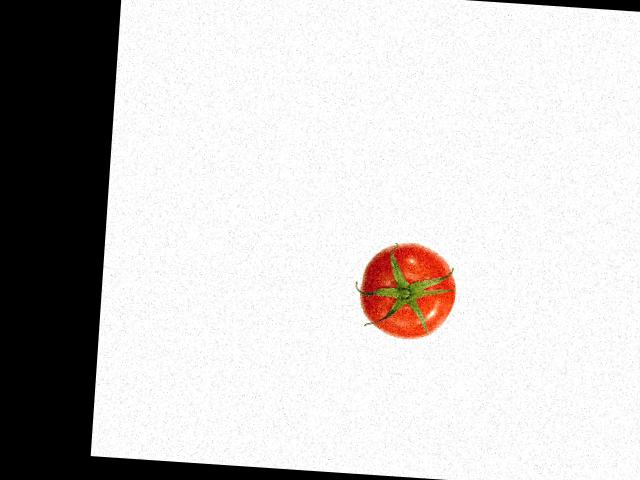tomato: (357, 240, 459, 341)
